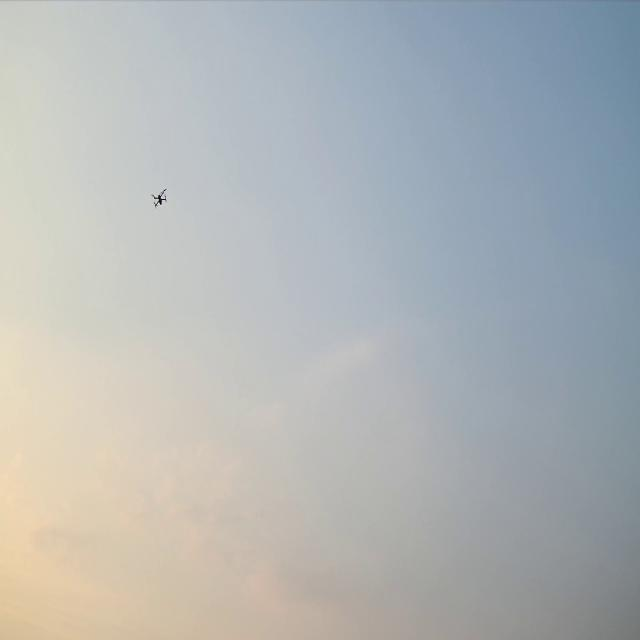UAV: (153, 190, 166, 207)
